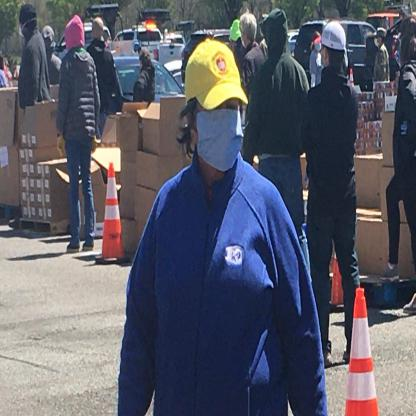Wearing_Mask: (186, 64, 250, 182)
